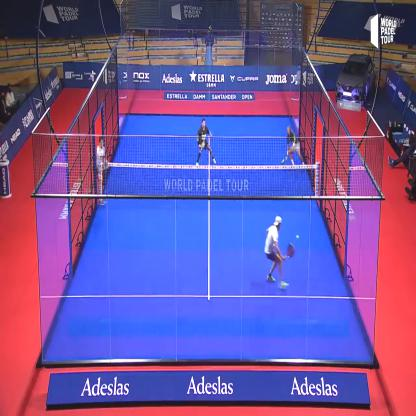ball: (294, 232, 300, 244)
